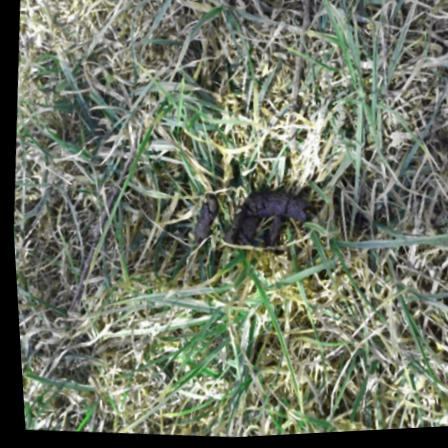dog-poop: (213, 177, 322, 265), (179, 186, 216, 245)
